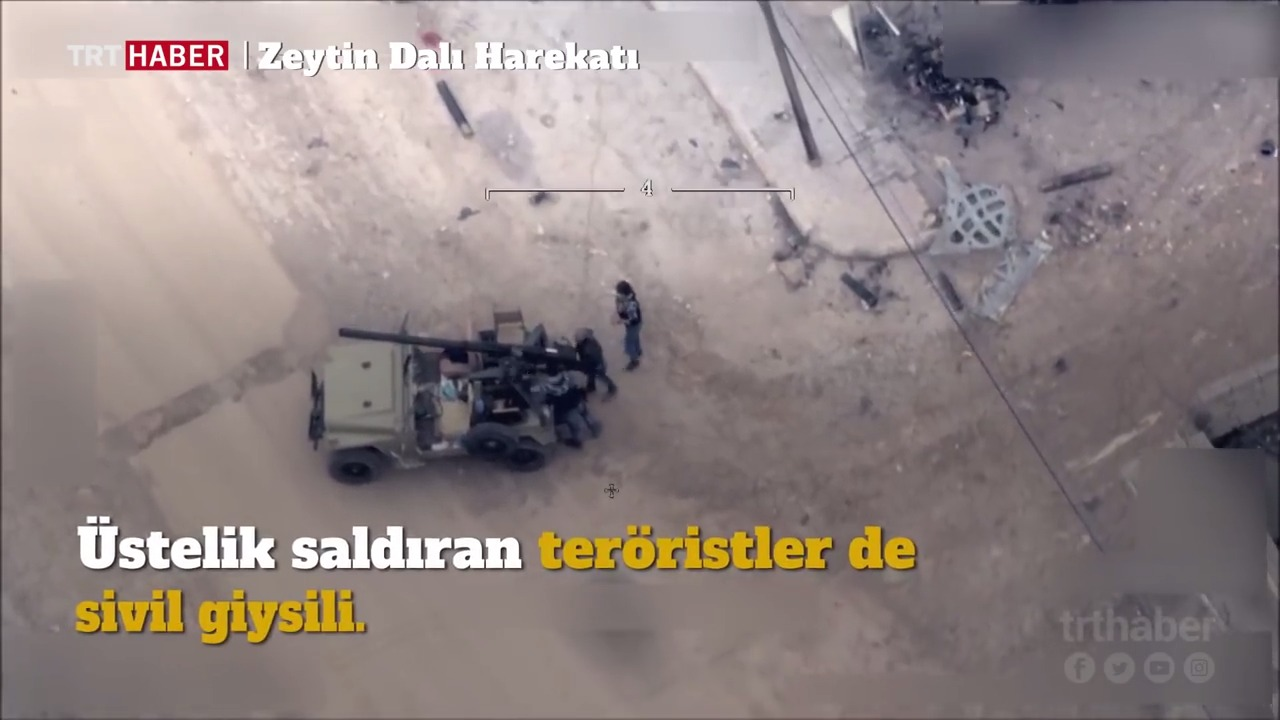arac: (299, 305, 559, 484)
insan: (549, 337, 588, 462), (611, 267, 658, 361), (575, 313, 602, 407)
